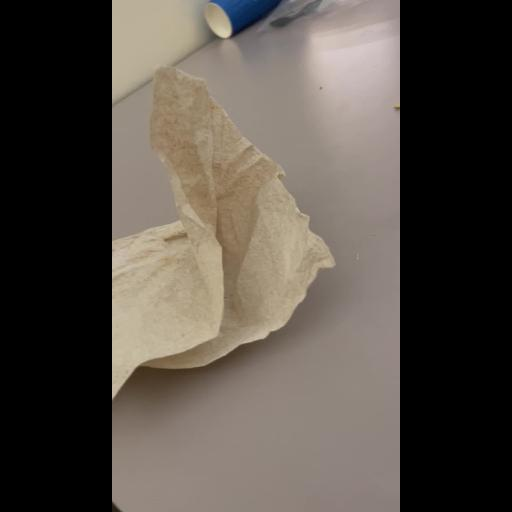napkin: (112, 49, 334, 405)
